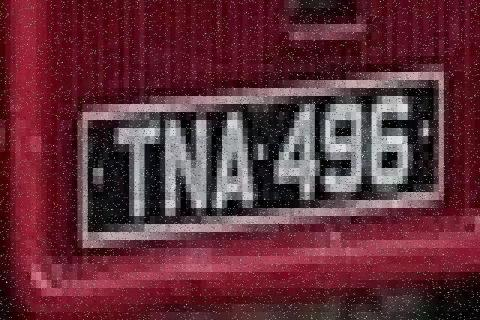LicensePlate: (48, 52, 458, 252)
